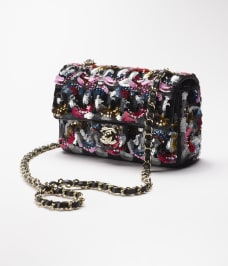channel: (38, 58, 207, 167), (19, 166, 84, 203), (65, 82, 131, 114), (139, 66, 173, 121), (90, 123, 119, 147)
